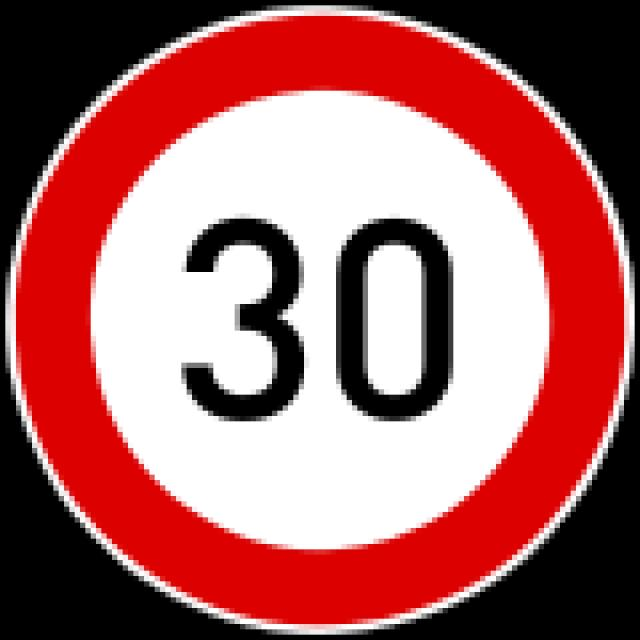Speed Limit -30-: (148, 190, 477, 453)
